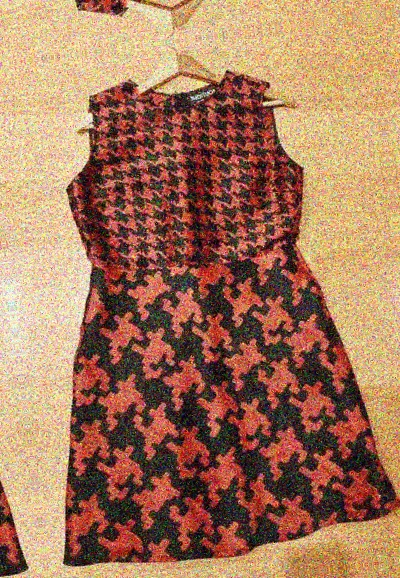Dress: (0, 47, 400, 578), (0, 95, 40, 578), (0, 0, 331, 38)
